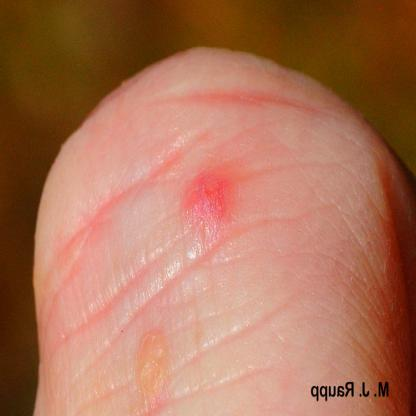Fire ant: (184, 166, 237, 232), (128, 328, 174, 404)
